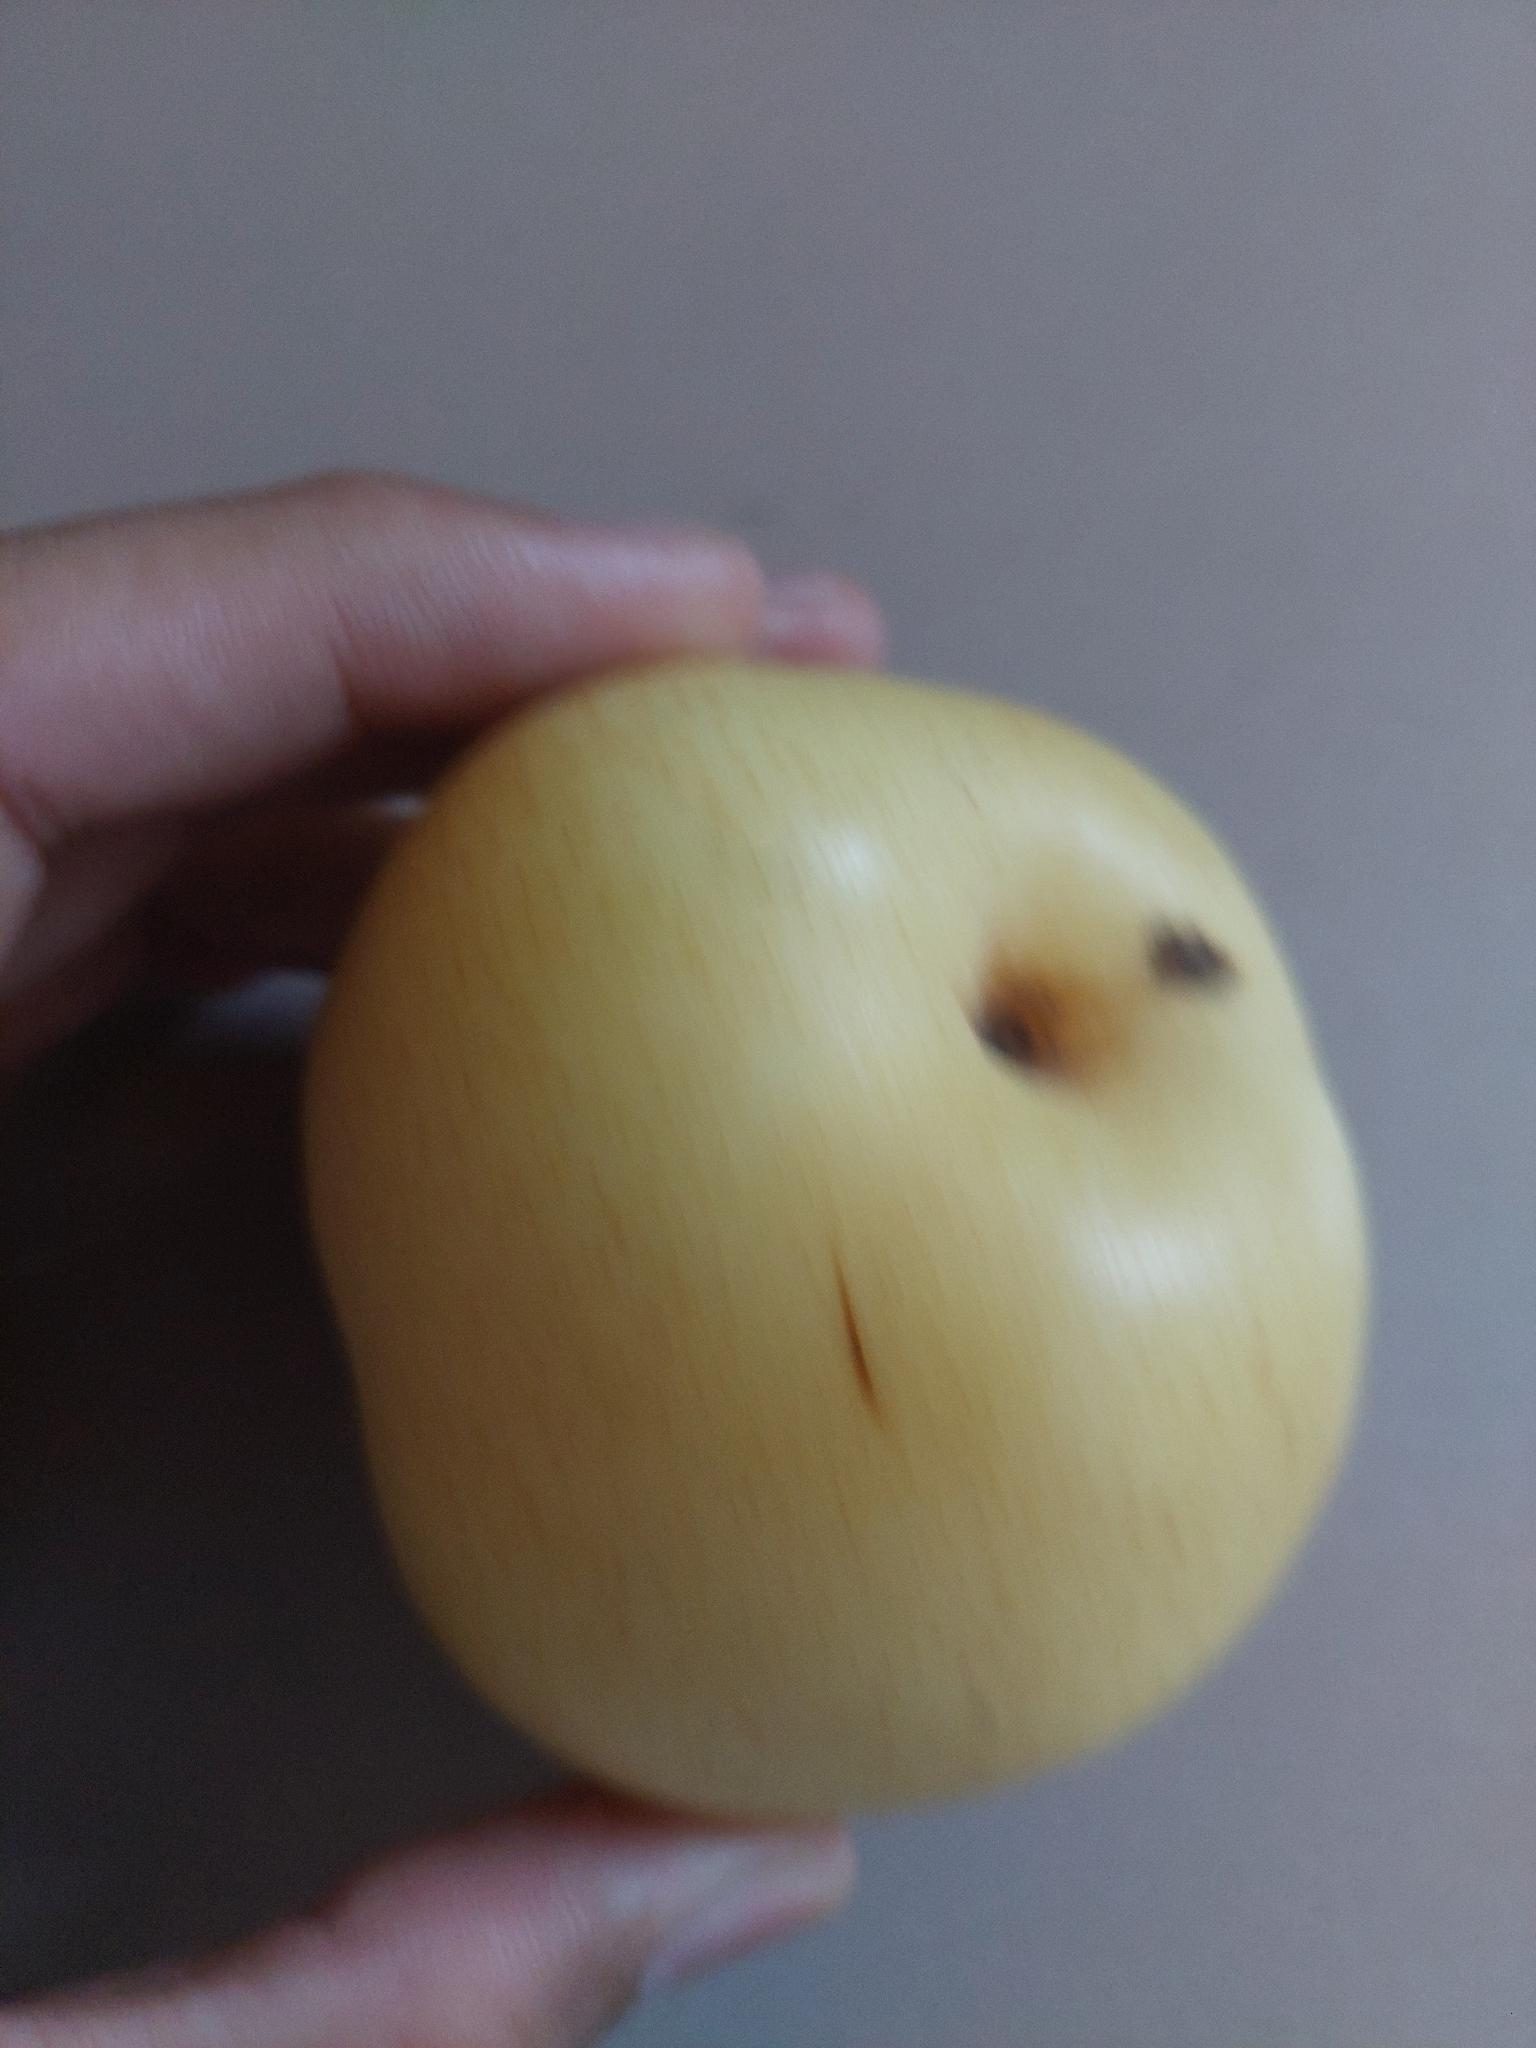Good Pear: (324, 634, 1370, 1837)
